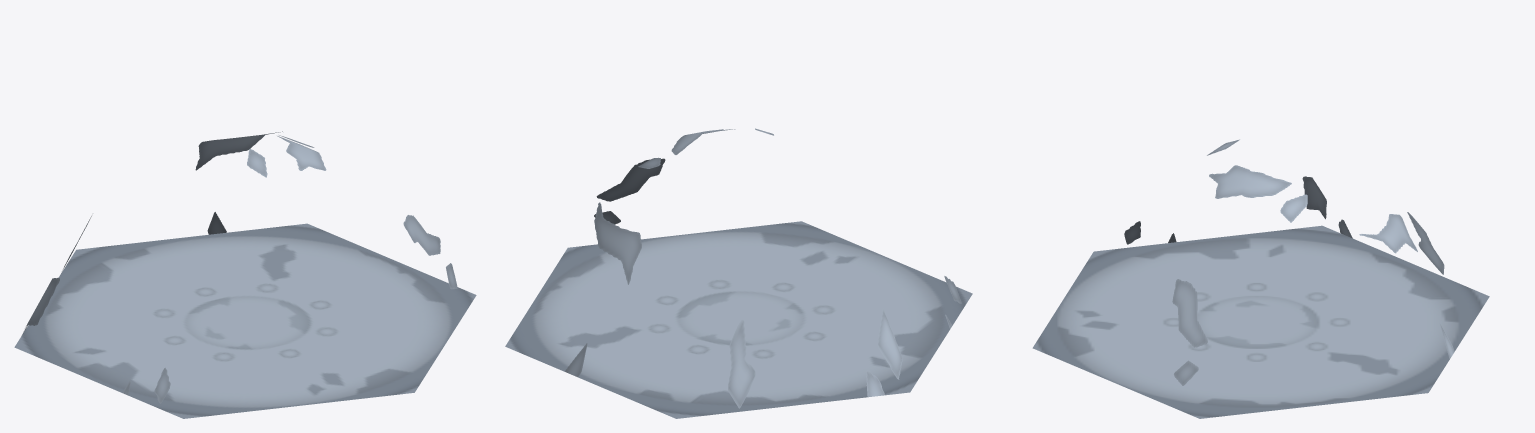
Rendered from obj_decor_sunshakeudder_lod1.fbx.
The picture shows the model from 3 angles, left to right: view 1: azimuth 30°, elevation 25°; view 2: azimuth 150°, elevation 25°; view 3: azimuth 270°, elevation 25°; orthographic projection. The views are drawn at different scales.
Parts seen in each view (by area): view 1: obj_decor_sunshakeudder_lod1; view 2: obj_decor_sunshakeudder_lod1; view 3: obj_decor_sunshakeudder_lod1.
Part boxes in pixels (x1,y1,x2,y2): obj_decor_sunshakeudder_lod1: (14, 131, 476, 418); obj_decor_sunshakeudder_lod1: (505, 128, 972, 418); obj_decor_sunshakeudder_lod1: (1032, 139, 1489, 418).
Bounding box in the file's own units: 5.17 × 2.41 × 5.17.
